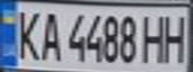4: (63, 9, 87, 62), (84, 10, 106, 63)
8: (118, 11, 142, 64), (103, 11, 121, 63)
A: (36, 7, 63, 62)
H: (139, 11, 172, 64), (160, 10, 193, 63)
K: (9, 6, 42, 61)
